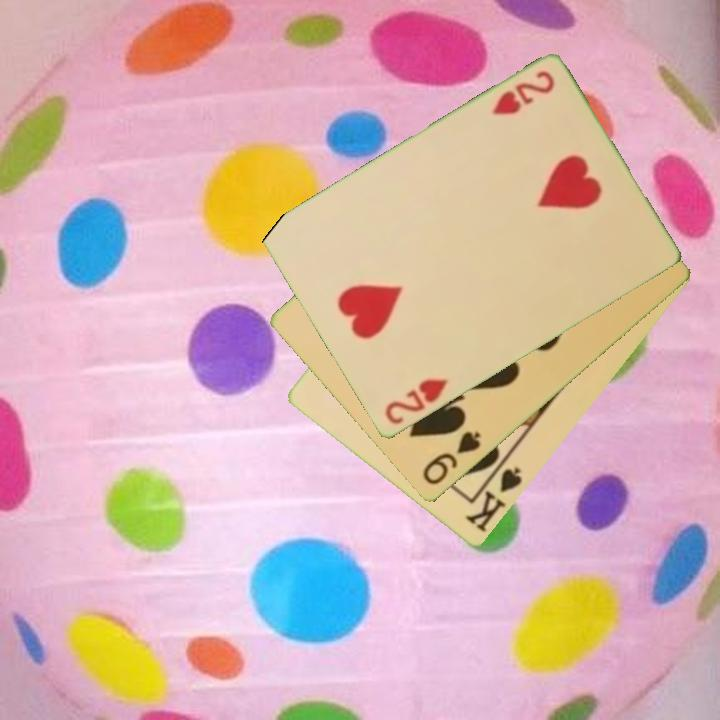2h: (381, 375, 451, 429), (488, 67, 558, 119)
9s: (419, 428, 484, 489)
Ks: (462, 464, 525, 536)
